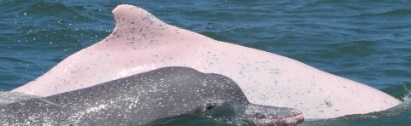fin: (14, 3, 408, 112)
